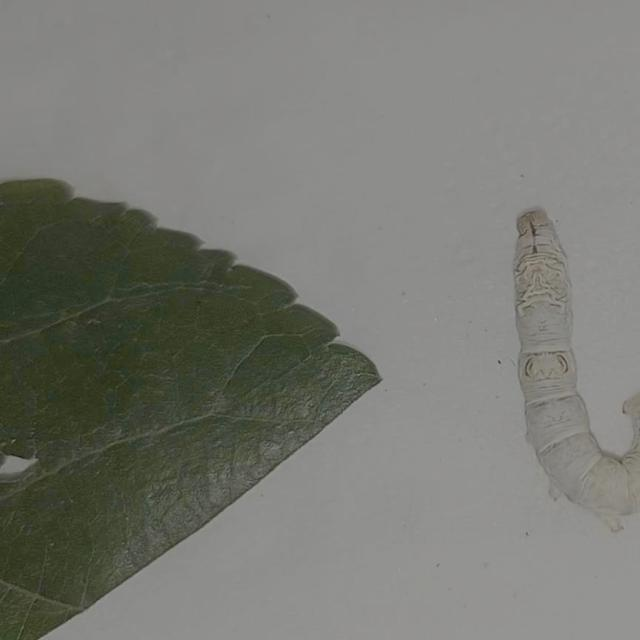Healthy: (471, 196, 640, 541)
